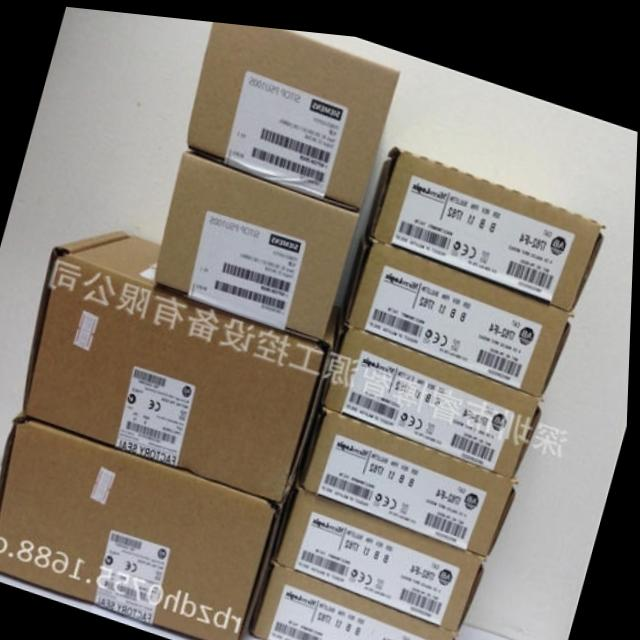box: (24, 227, 331, 495), (0, 415, 284, 640), (367, 137, 609, 298), (186, 17, 400, 199), (157, 148, 359, 333), (344, 228, 575, 387), (324, 318, 545, 467), (305, 399, 521, 544), (276, 481, 491, 623), (253, 557, 458, 640)
